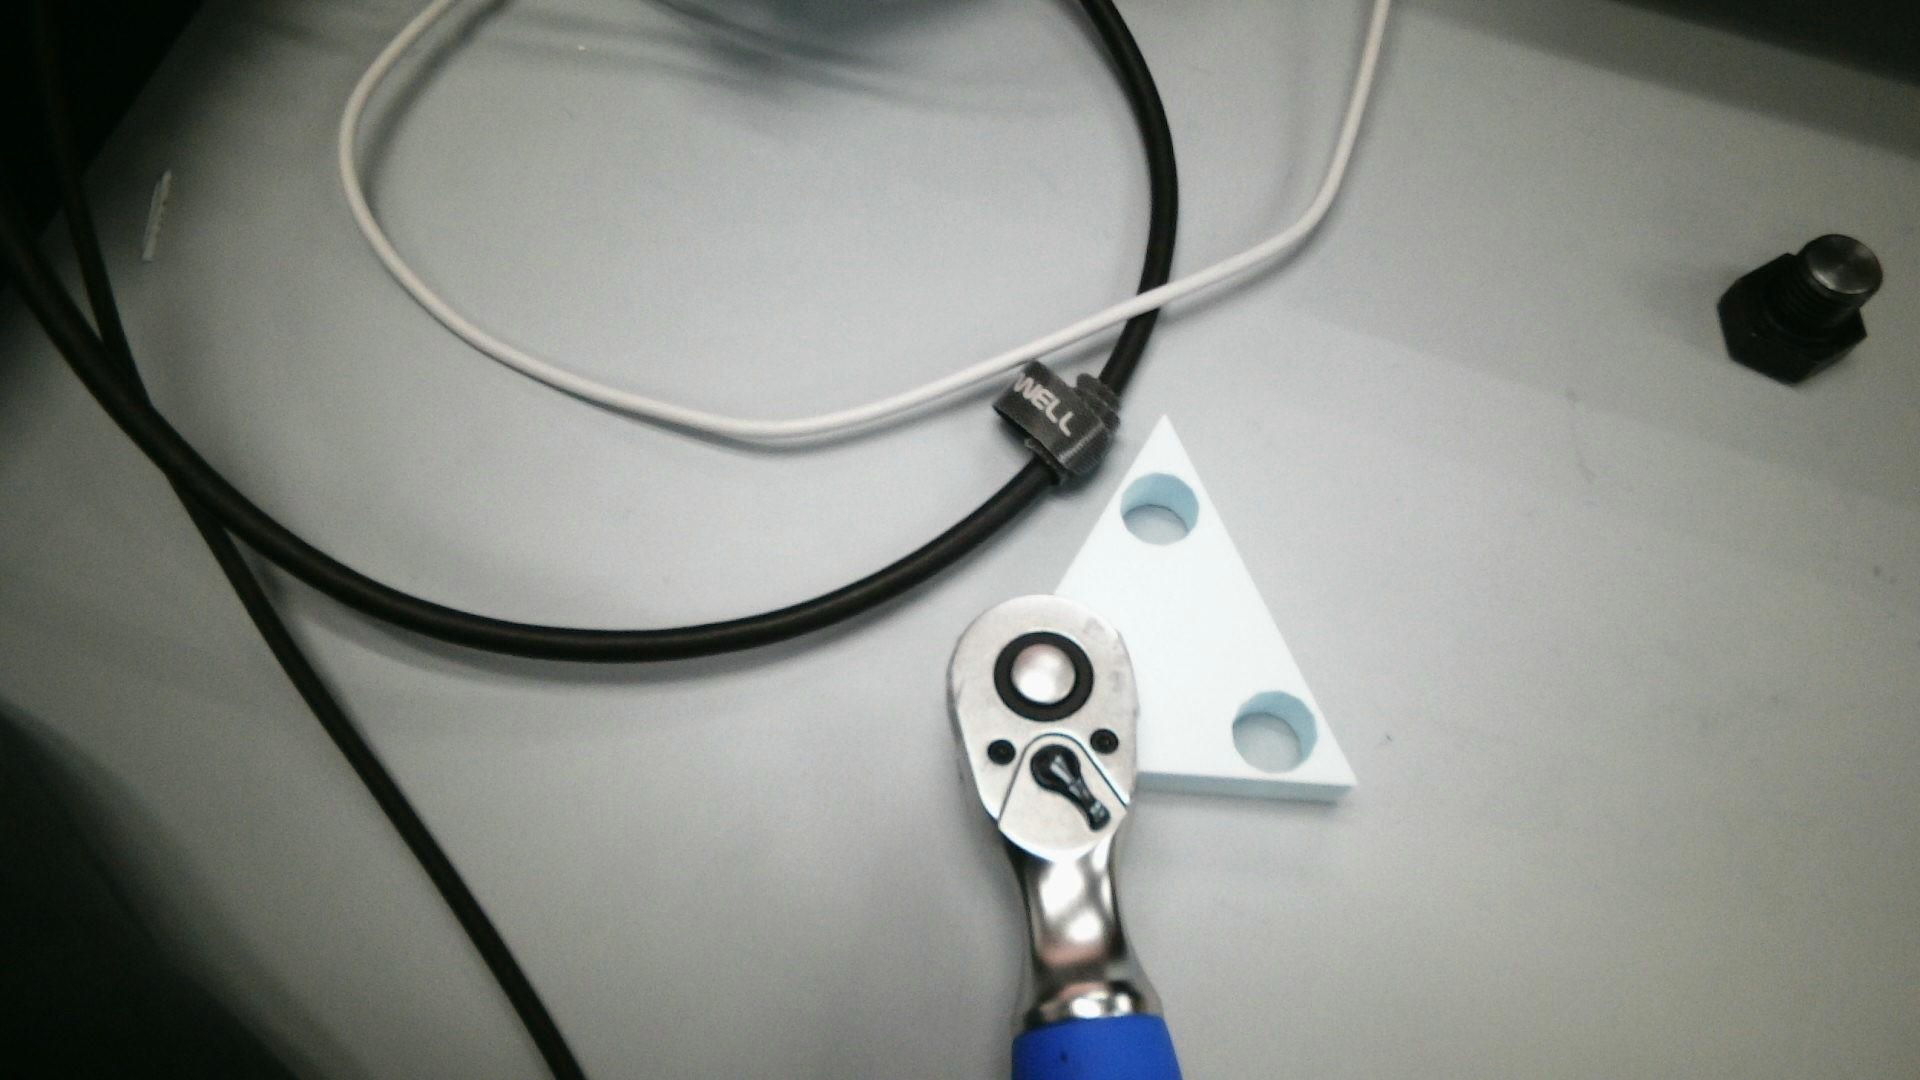hole: (1232, 688, 1319, 775), (1118, 472, 1200, 545)
obj: (1047, 414, 1360, 808)
wrench: (993, 629, 1096, 721)
